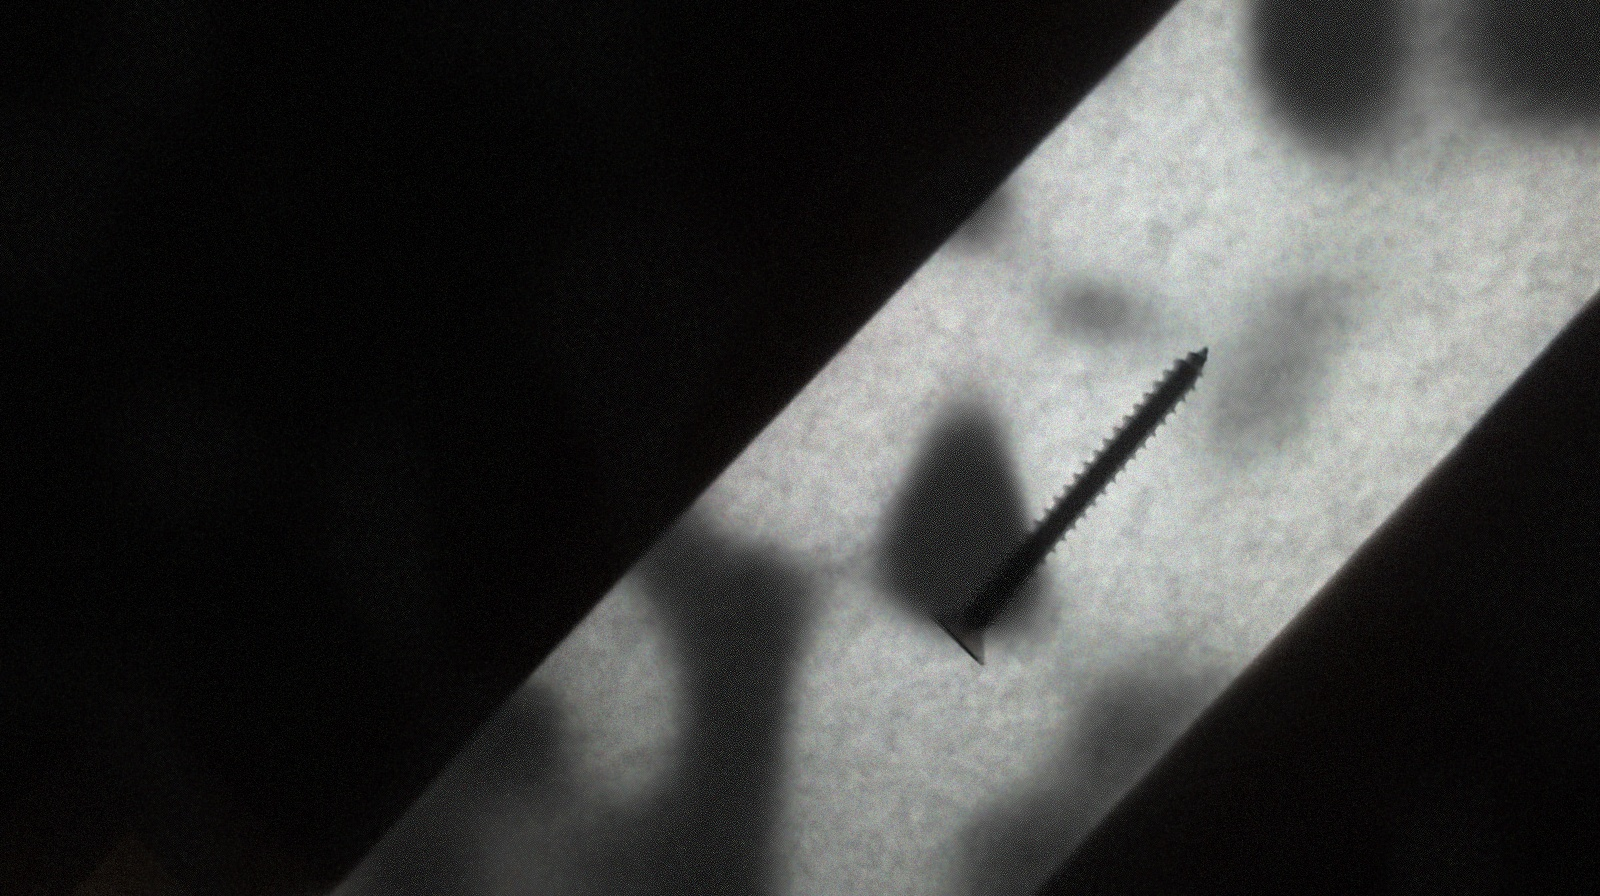S002: (925, 331, 1216, 684)
